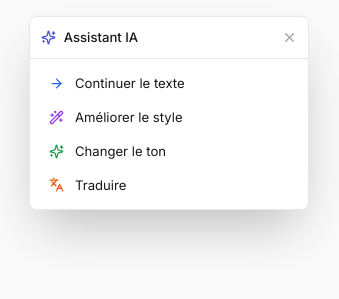
Scenario: AIContextMenu › Loading State › should show loading indicator during processing
What coordinates should you click on to do the following:
click the button "Continuer le texte"
I would click on:
 (169, 84)
Its box is [38,67,300,101].
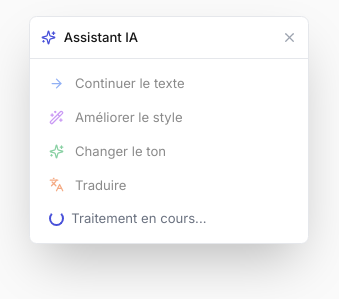
Expected: the text "Traitement en cours..." is shown, [71,209,206,228]
